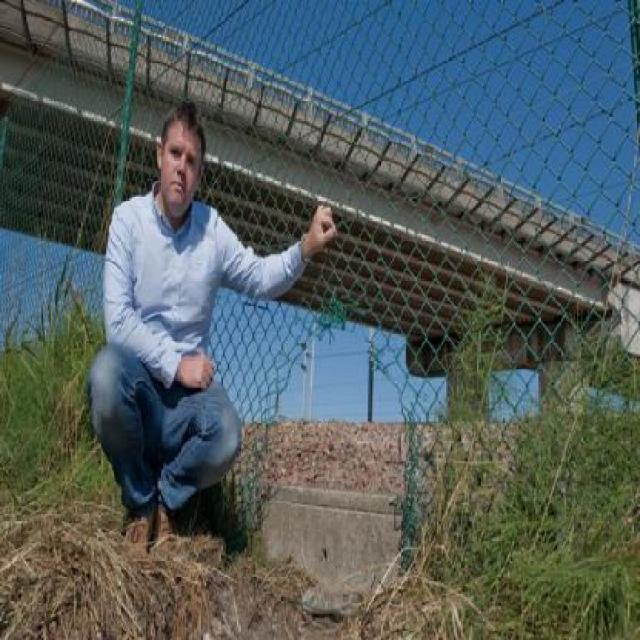fence line: (243, 341, 417, 568)
